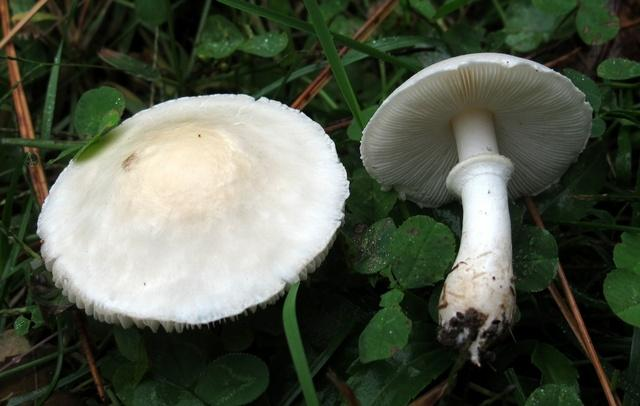Non-edible Mushroom: (35, 91, 350, 333), (358, 50, 594, 366)
